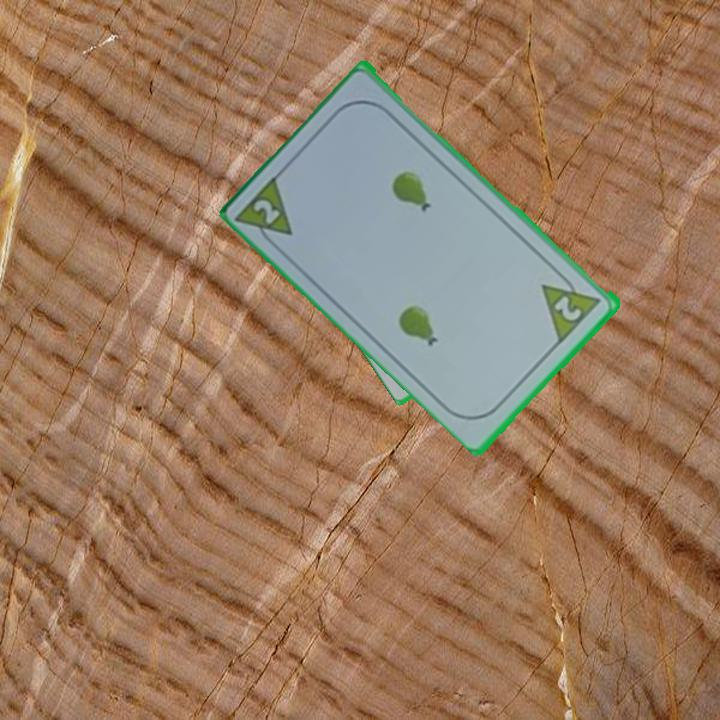2p: (551, 291, 585, 325), (250, 195, 284, 228)
